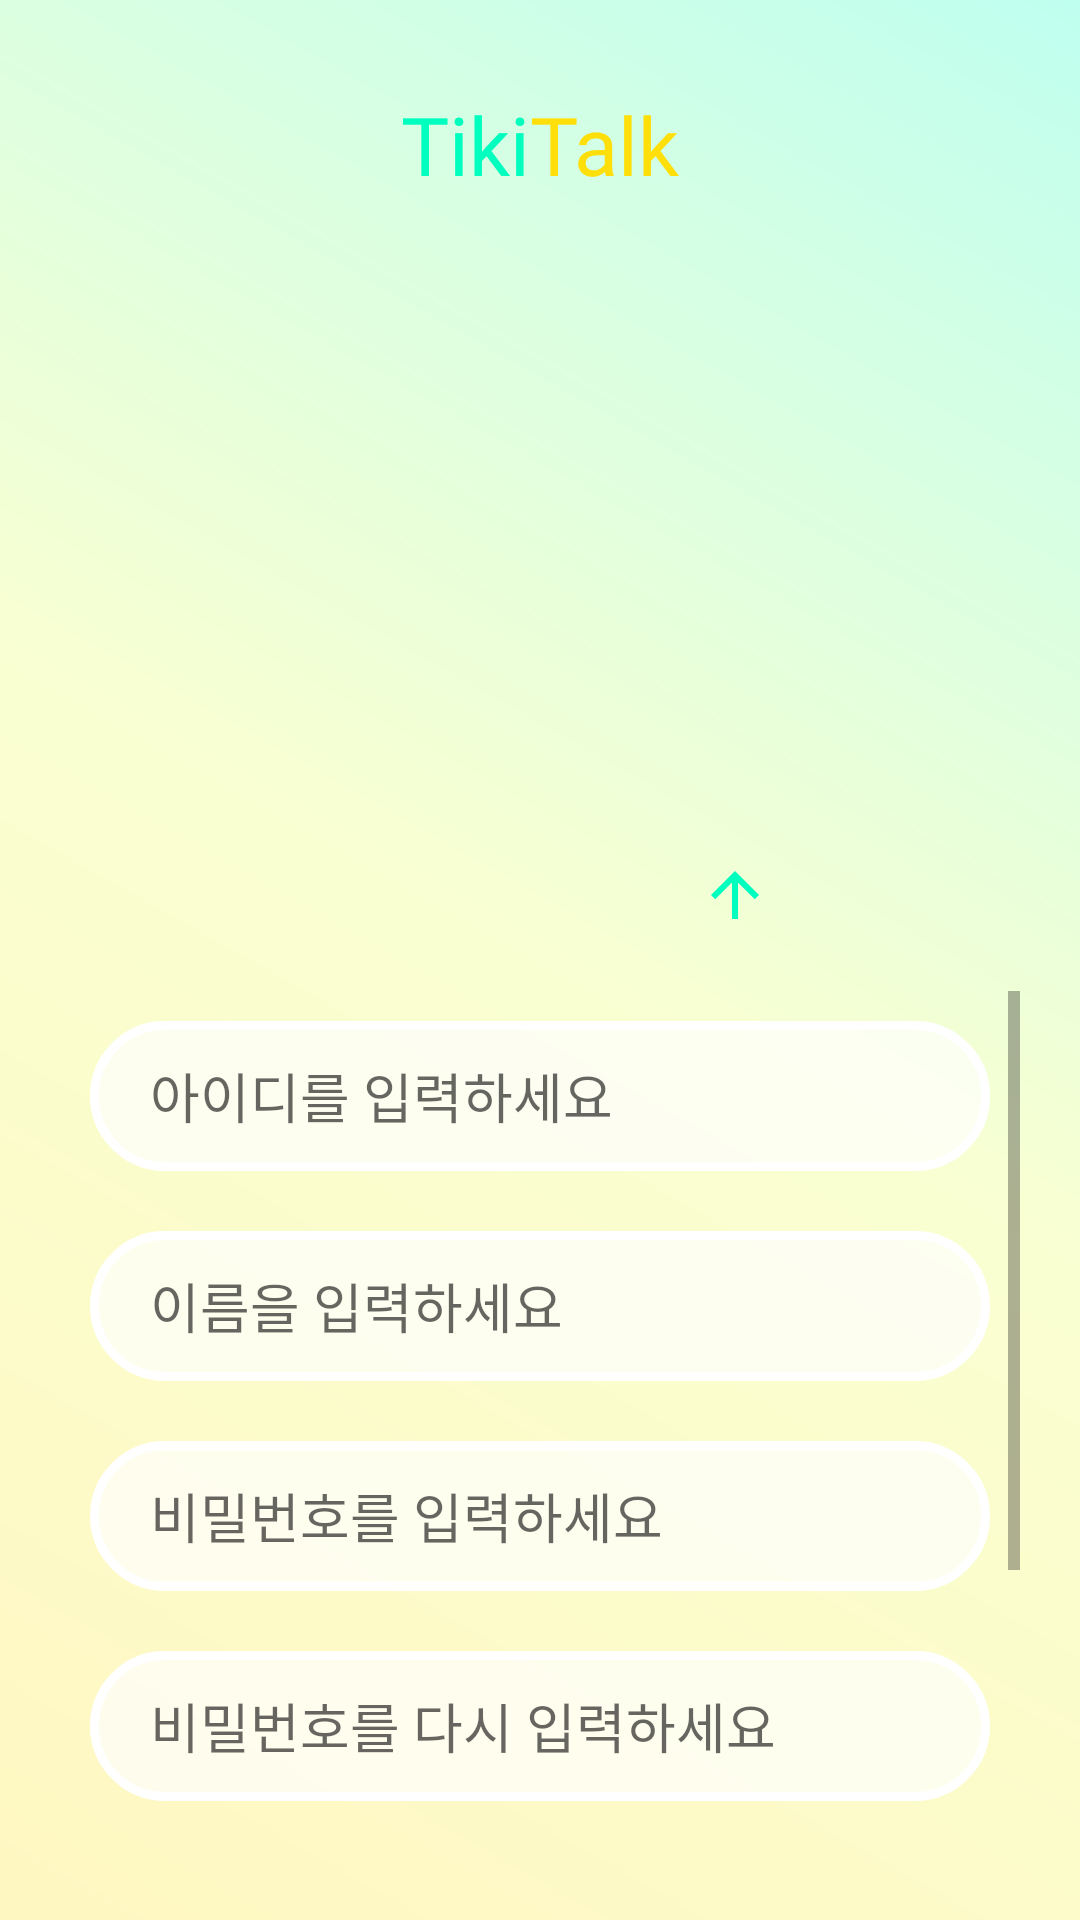

Icon click points for this 1080*1920 phone screenshot, format (x,y):
upload: (735,895)
